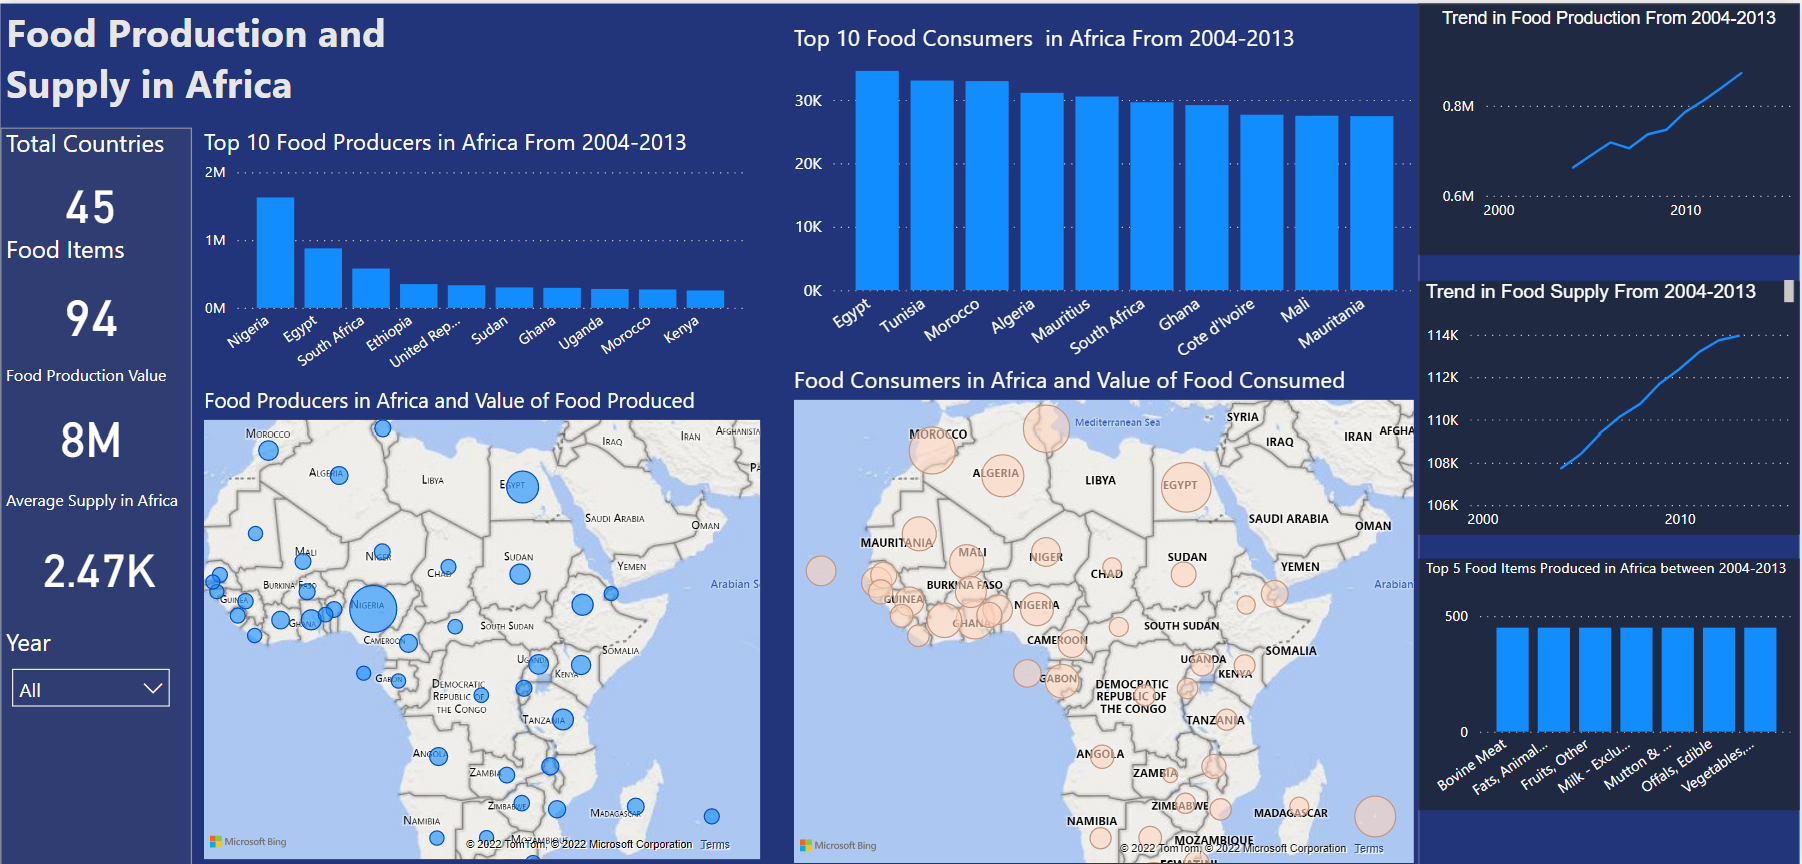

What the dashboard file says about the page in this screenshot:
{"tool":"powerbi","page":{"name":"My Dashboard","canvas":[1500,720],"ordinal":0},"visuals":[{"type":"textbox","box":[0,0,328.3,105],"z":0},{"type":"textbox","box":[1196.7,0,303.3,36.7],"z":2},{"type":"lineChart","title":"Trend in Food Production in Africa From 2004-2013","fields":{"Category":["Africa Food Production (2004 - 2013).Year"],"Y":["Sum(Africa Food Production (2004 - 2013).Value)"]},"box":[1196.7,36.7,303.3,156.7],"z":3},{"type":"textbox","box":[1183.3,228.3,316.7,36.7],"z":4},{"type":"lineChart","title":"Trend in Food Consumption in Africa From 2004-2013","fields":{"Category":["Africa Food Supply (2004 - 2013).Year"],"Y":["Sum(Africa Food Supply (2004 - 2013).Value)"]},"box":[1183.3,265,316.7,185],"z":5},{"type":"columnChart","title":"Top 5 Food Items Produced in Africa between 2004-2013","fields":{"Category":["Africa Food Production.Item"],"Y":["CountNonNull(Africa Food Production.Value)"]},"box":[1183.3,463.3,316.7,211.7],"z":6},{"type":"card","title":"Total Countries","fields":{"Values":["Count(Africa Food Production.Country)"]},"box":[0,105,151.7,100],"z":7},{"type":"card","title":"Food Items","fields":{"Values":["Count(Africa Food Production.Item)"]},"box":[0,193.3,151.7,108.3],"z":8},{"type":"card","title":"Food Production Value","fields":{"Values":["Sum(Africa Food Production.Value)"]},"box":[0,303.3,151.7,98.3],"z":9},{"type":"card","title":"Average Supply in Africa","fields":{"Values":["Avg(Africa Food Supply.Value)"]},"box":[0,406.7,165,110],"z":10},{"type":"slicer","title":"Year","fields":{"Values":["Africa Food Supply.Year"]},"box":[0,520,151.7,101.7],"z":11},{"type":"columnChart","title":"Top 10 Food Producers in Africa From 2004-2013","fields":{"Category":["Africa Food Production.Country"],"Y":["Sum(Africa Food Production.Value)"]},"box":[165,105,460,216.7],"z":12},{"type":"columnChart","title":"Top 10 Food Consumers  in Africa From 2004-2013","fields":{"Category":["Africa Food Supply.Country"],"Y":["Sum(Africa Food Supply.Value)"]},"box":[656.7,18.3,528.3,303.3],"z":13},{"type":"map","title":"Food Producers in Africa and Value of Food Produced","fields":{"Category":["Africa Food Production.Country"],"Size":["Sum(Africa Food Production.Value)"]},"box":[165,321.7,491.7,400],"z":14},{"type":"map","title":"Food Consumers in Africa and Value of Food Consumed","fields":{"Category":["Africa Food Supply.Country"],"Size":["Sum(Africa Food Supply.Value)"]},"box":[675,303.3,510,421.7],"z":15}]}

Visuals, with their boxes in screenshot pixels (x1, y1, x2, y2), scaled from the page's 1500x720 canvas onto the 1802x864 screenshot:
textbox: box=[0, 0, 394, 126]
textbox: box=[1438, 0, 1801, 44]
"Trend in Food Production in Africa From 2004-2013" lineChart: box=[1438, 44, 1801, 232]
textbox: box=[1422, 274, 1801, 318]
"Trend in Food Consumption in Africa From 2004-2013" lineChart: box=[1422, 318, 1801, 540]
"Top 5 Food Items Produced in Africa between 2004-2013" columnChart: box=[1422, 556, 1801, 810]
"Total Countries" card: box=[0, 126, 182, 246]
"Food Items" card: box=[0, 232, 182, 362]
"Food Production Value" card: box=[0, 364, 182, 482]
"Average Supply in Africa" card: box=[0, 488, 198, 620]
"Year" slicer: box=[0, 624, 182, 746]
"Top 10 Food Producers in Africa From 2004-2013" columnChart: box=[198, 126, 751, 386]
"Top 10 Food Consumers  in Africa From 2004-2013" columnChart: box=[789, 22, 1424, 386]
"Food Producers in Africa and Value of Food Produced" map: box=[198, 386, 789, 863]
"Food Consumers in Africa and Value of Food Consumed" map: box=[811, 364, 1424, 863]
